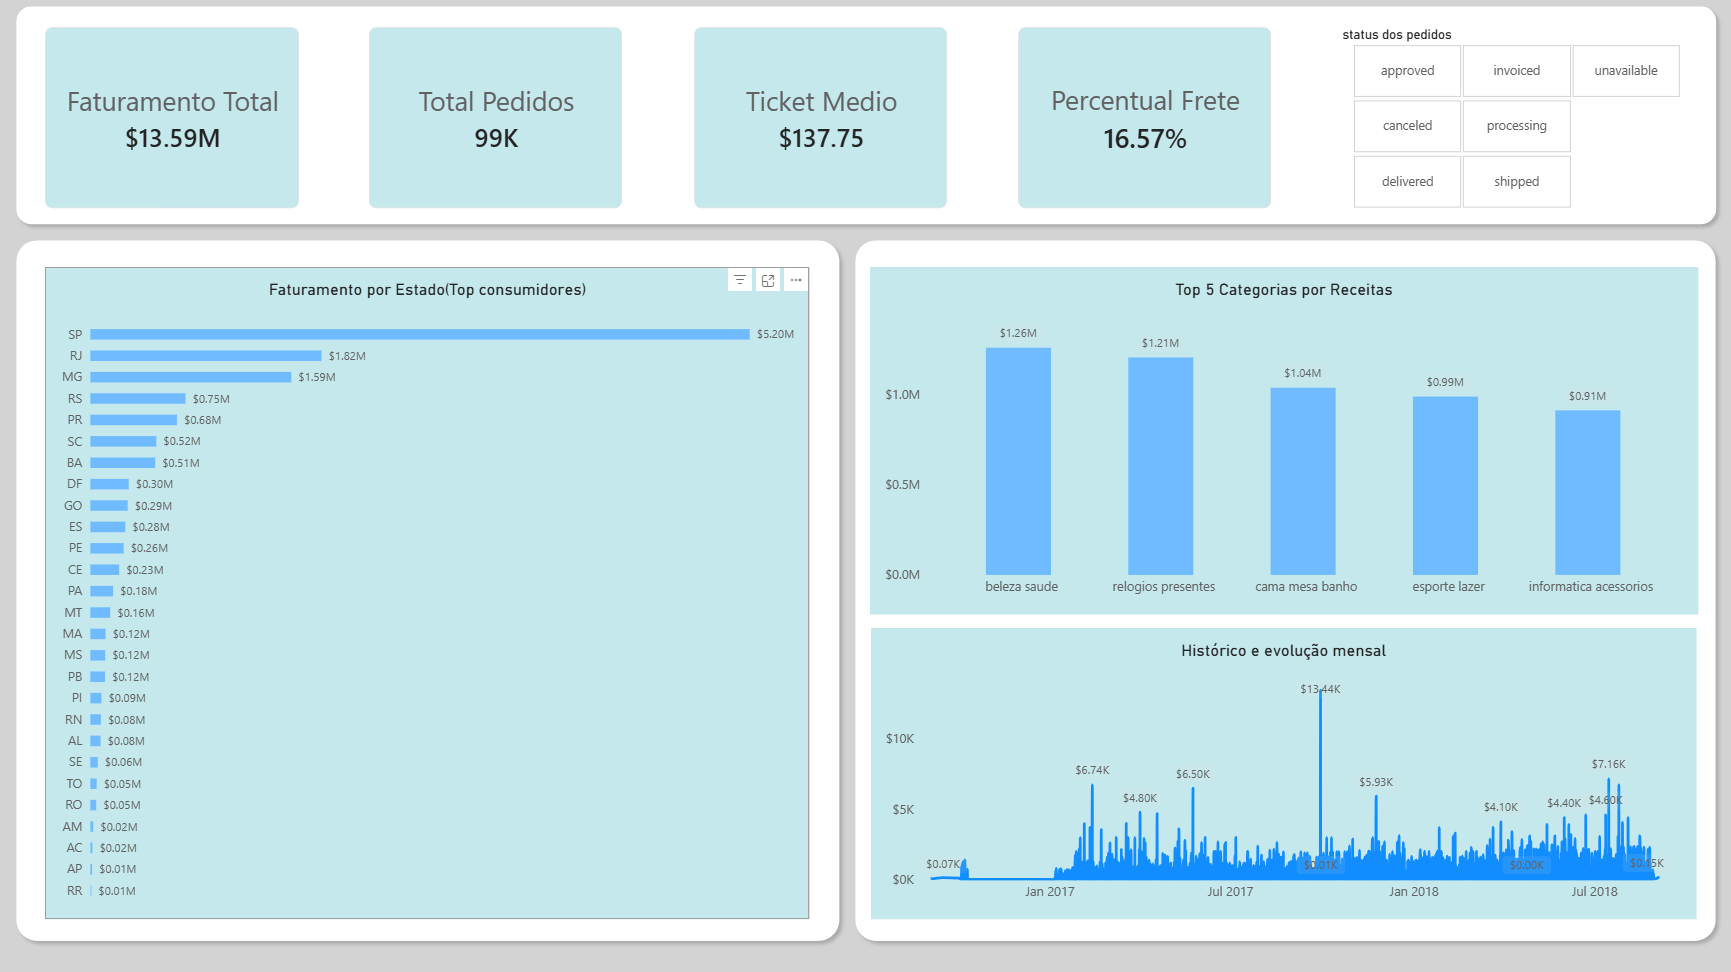

The page's visual inventory and layout, read from the dashboard file:
{"tool":"powerbi","page":{"name":"Page 1","canvas":[1920,1080],"ordinal":0},"visuals":[{"type":"shape","box":[12.9,258.3,925.3,790.4],"z":0},{"type":"shape","box":[12.9,0,1891.7,258.3],"z":1000},{"type":"shape","box":[938.2,258.3,966.4,790.4],"z":2000},{"type":"cardVisual","fields":{"Data":["public view_resume_vendas.Faturamento Total"]},"box":[53.9,32,280.6,200.7],"z":3000},{"type":"cardVisual","fields":{"Data":["public view_resume_vendas.Total Pedidos"]},"box":[411.4,32,279.6,200.7],"z":4000},{"type":"cardVisual","fields":{"Data":["public view_resume_vendas.Ticket Medio"]},"box":[768.8,32,279.6,200.7],"z":5000},{"type":"clusteredBarChart","title":"Faturamento por Estado(Top consumidores)","fields":{"Category":["public view_resume_vendas.estado_cliente"],"Y":["public view_resume_vendas.Faturamento Total"]},"box":[53.9,296.5,842.7,718.9],"z":6000},{"type":"clusteredColumnChart","title":"Top 5 Categorias por Receitas","fields":{"Category":["public view_resume_vendas.categoria_produto"],"Y":["public view_resume_vendas.Faturamento Total"]},"box":[963.5,296.5,912.6,383.4],"z":7000},{"type":"slicer","fields":{"Values":["public view_resume_vendas.order_status"]},"box":[1475.8,32,399,200.6],"z":8000},{"type":"lineChart","title":"Histórico e evolução mensal","fields":{"Category":["public view_resume_vendas.data_venda"],"Y":["public view_resume_vendas.Faturamento Total"]},"box":[964.1,694,909.9,321.3],"z":9000},{"type":"cardVisual","fields":{"Data":["public view_resume_vendas.Percentual Frete"]},"box":[1126.2,32,279.6,200.7],"z":10000}]}

Visuals, with their boxes in screenshot pixels (x1, y1, x2, y2), scaled from the page's 1920x1080 canvas onto the 1731x972 screenshot:
shape: box(12, 232, 846, 944)
shape: box(12, 0, 1717, 232)
shape: box(846, 232, 1717, 944)
cardVisual - public view_resume_vendas.Faturamento Total: box(49, 29, 302, 209)
cardVisual - public view_resume_vendas.Total Pedidos: box(371, 29, 623, 209)
cardVisual - public view_resume_vendas.Ticket Medio: box(693, 29, 945, 209)
"Faturamento por Estado(Top consumidores)" clusteredBarChart: box(49, 267, 808, 914)
"Top 5 Categorias por Receitas" clusteredColumnChart: box(869, 267, 1691, 612)
slicer - public view_resume_vendas.order_status: box(1331, 29, 1690, 209)
"Histórico e evolução mensal" lineChart: box(869, 625, 1690, 914)
cardVisual - public view_resume_vendas.Percentual Frete: box(1015, 29, 1267, 209)
